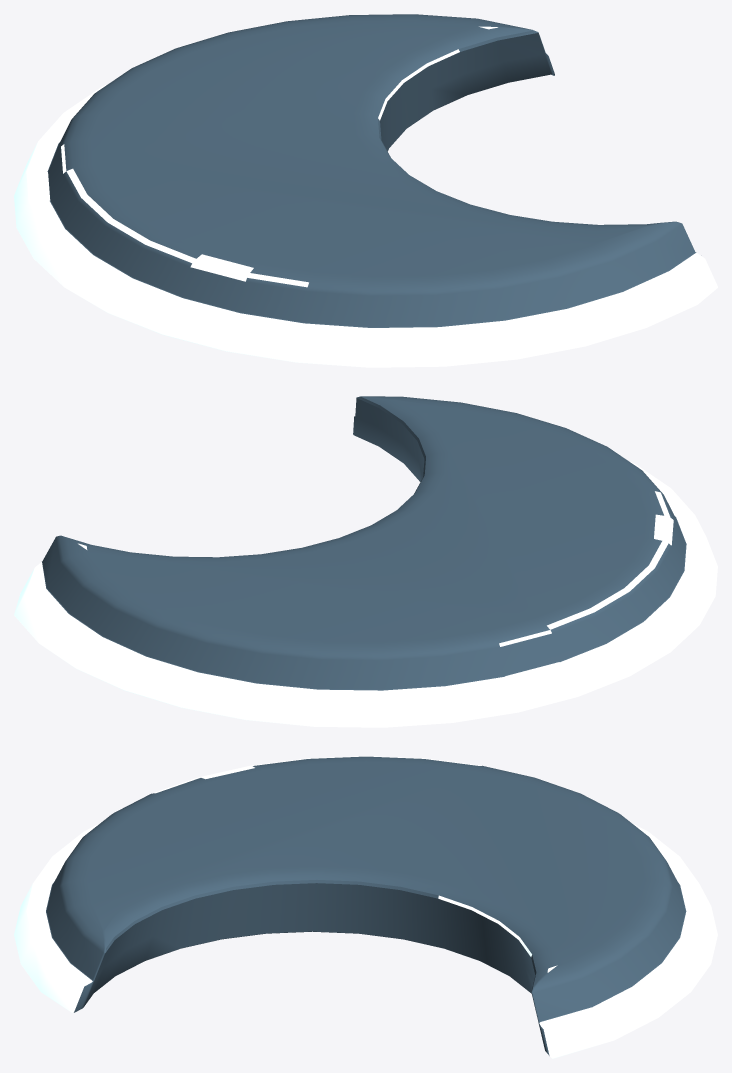
Rendered from Moon.fbx.
3 views of the same model, one above another, from view 1: azimuth 30°, elevation 25°; view 2: azimuth 150°, elevation 25°; view 3: azimuth 270°, elevation 25° (orthographic). The views are drawn at different scales.
Visible parts, largest first — view 1: moon; view 2: moon; view 3: moon.
Boxes of the visible parts, x1,y1,x2,y2 form: moon: [14, 14, 717, 367]; moon: [14, 396, 717, 727]; moon: [14, 756, 717, 1058].
Bounding box in the file's own units: 63.05 × 6.68 × 70.5.
